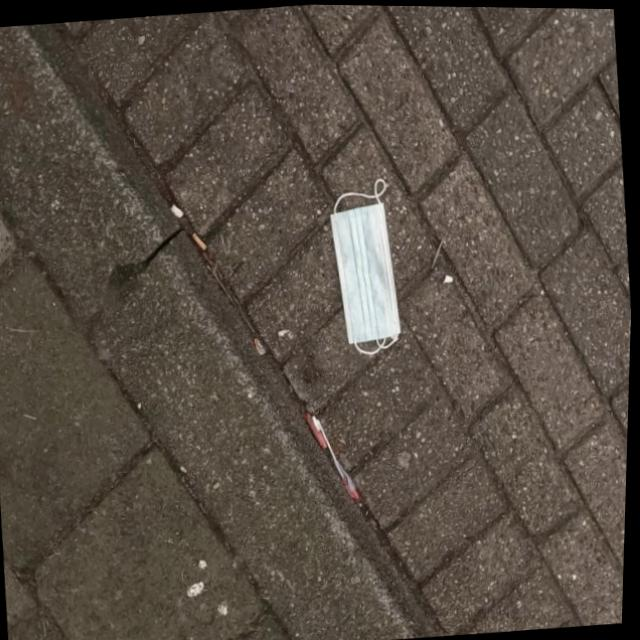Mask: (322, 172, 411, 359)
